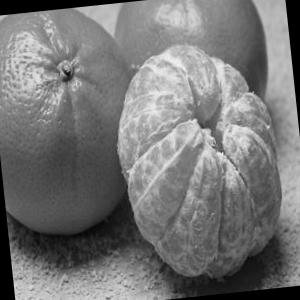fruit: (115, 30, 295, 283), (0, 12, 149, 243)
